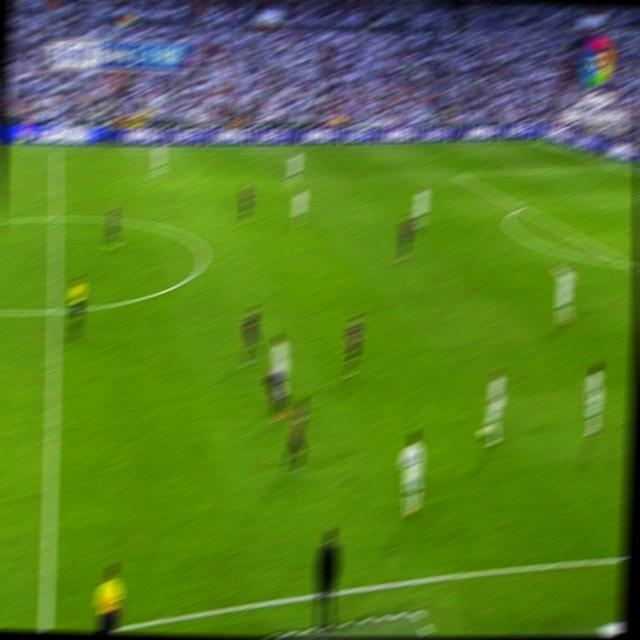corner: (537, 137, 549, 146)
halfcircle_bottom: (46, 298, 63, 323)
halfcircle_top: (48, 208, 63, 228)
midline_top_intersection: (50, 144, 62, 156)
top_arc_area_intersection: (513, 200, 526, 214)
